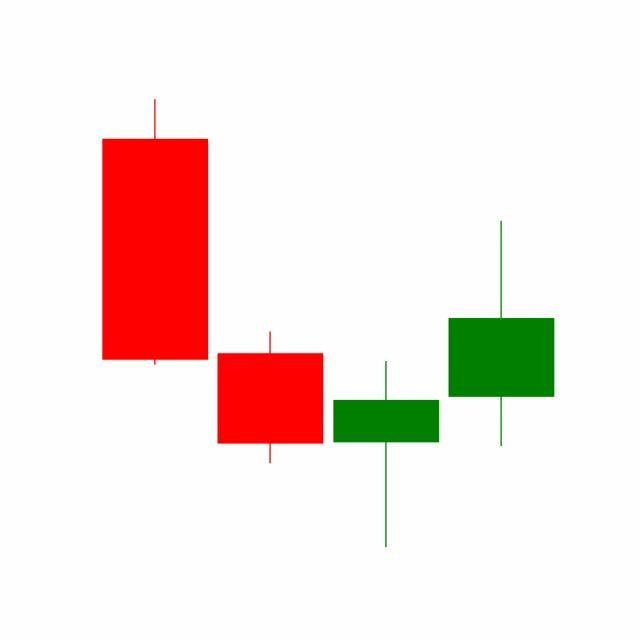Three Inside Up-Down: (211, 217, 555, 549)
